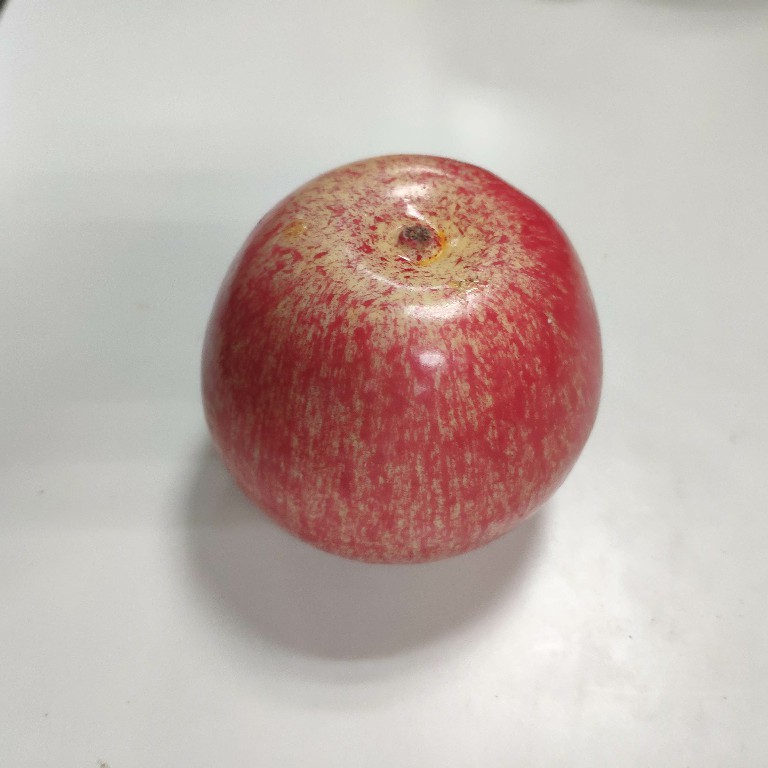fruit_apple: (197, 147, 607, 569)
